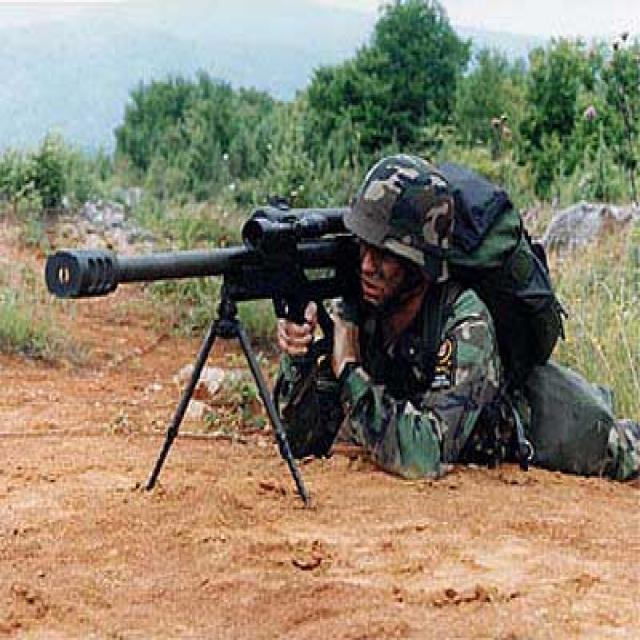rifle: (38, 193, 362, 325)
